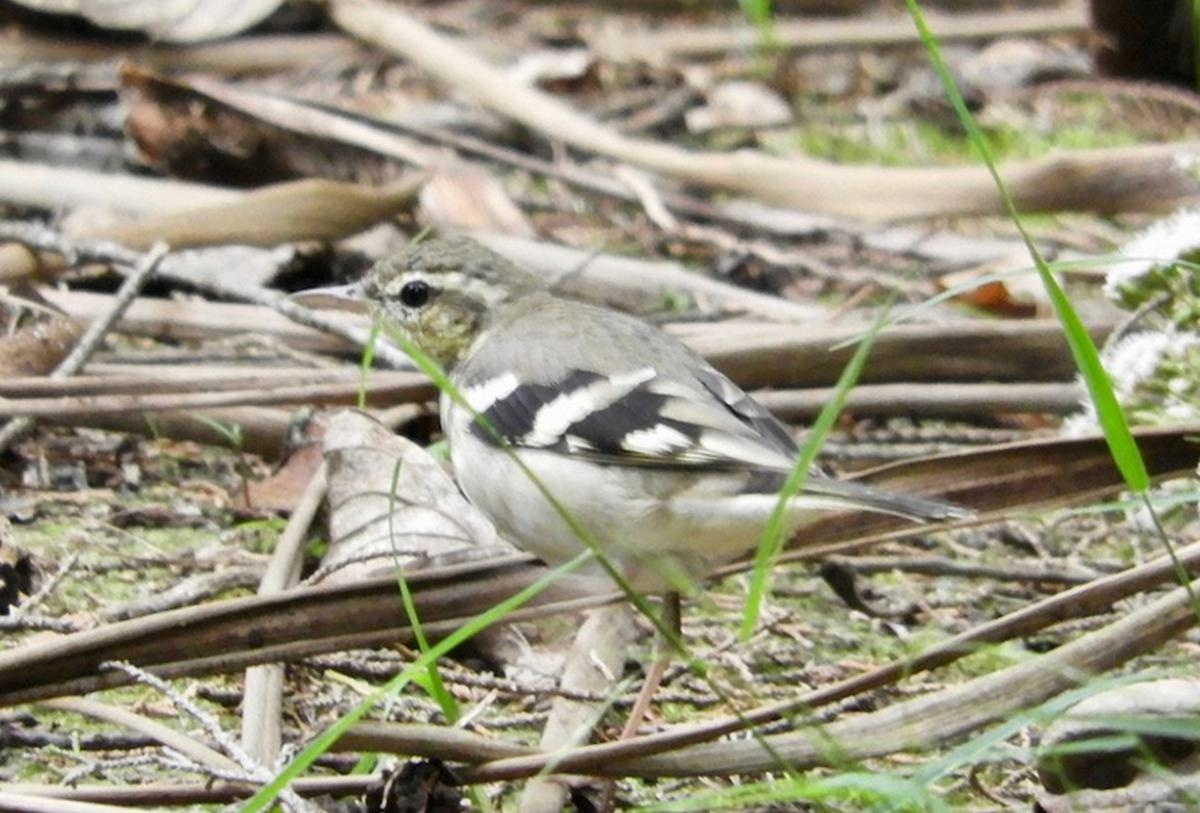wagtail: (334, 246, 907, 656)
